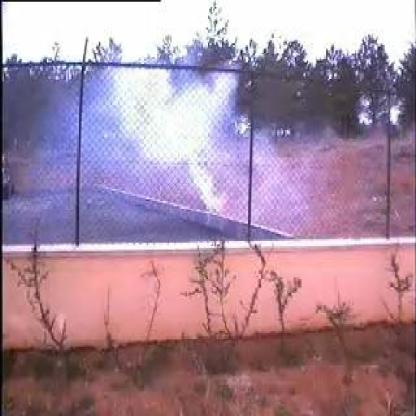-: (84, 61, 281, 230)
